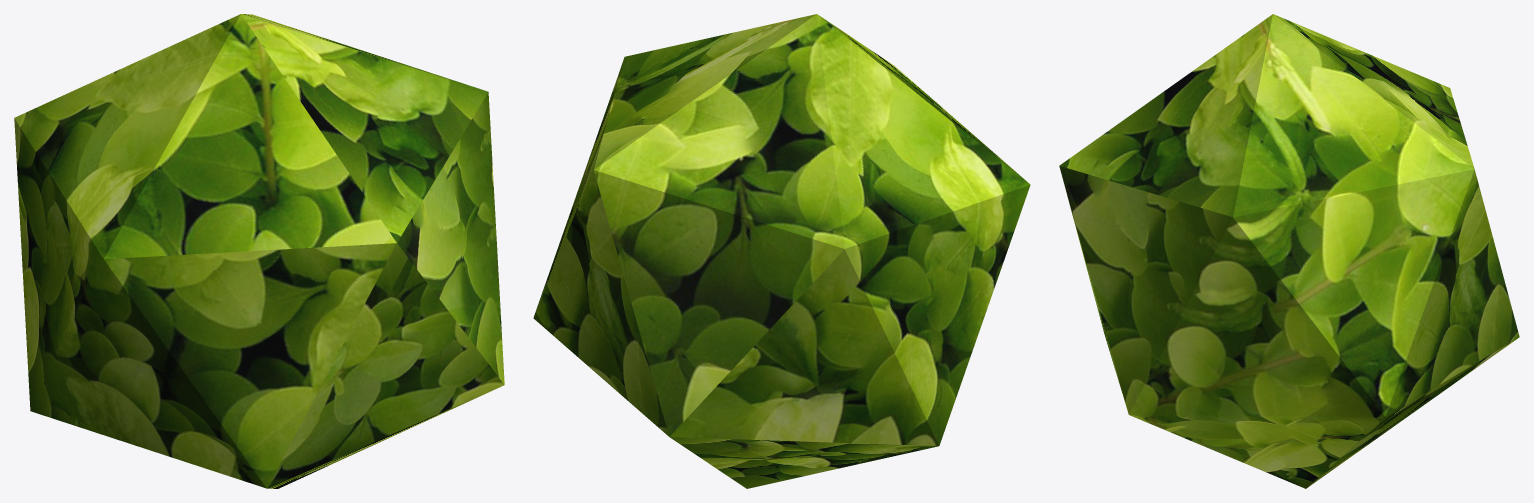
The model's file is bush.fbx.
3 views of the same model, side by side, from view 1: azimuth 30°, elevation 25°; view 2: azimuth 150°, elevation 25°; view 3: azimuth 270°, elevation 25° (orthographic). The views are drawn at different scales.
Visible parts, largest first — view 1: Icosphere.008; view 2: Icosphere.008; view 3: Icosphere.008.
Part boxes in pixels (x1,y1,x2,y2): Icosphere.008: (14,14,504,488); Icosphere.008: (533,14,1030,488); Icosphere.008: (1059,14,1519,488).
Size of the model in its own units: 1692 by 1940 by 1797.
